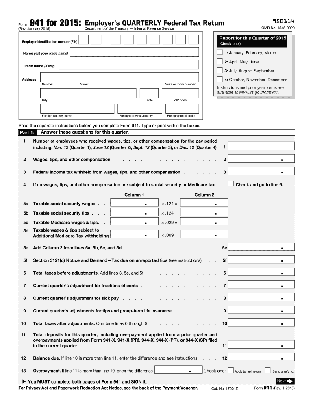checkbox: (215, 57, 223, 64), (215, 66, 223, 73), (263, 366, 271, 373), (216, 48, 223, 55), (216, 75, 223, 82), (227, 180, 234, 187), (227, 366, 234, 373)
textbox: (39, 71, 199, 82), (57, 58, 200, 70), (69, 46, 199, 57), (39, 87, 137, 99), (39, 102, 115, 115), (226, 152, 296, 164), (226, 253, 296, 264), (226, 266, 296, 277), (226, 278, 296, 289), (226, 338, 296, 349), (226, 351, 296, 362), (227, 140, 296, 151), (227, 165, 296, 176), (227, 240, 296, 251), (227, 303, 296, 314), (226, 290, 295, 301), (227, 316, 296, 327), (153, 363, 204, 375), (116, 101, 163, 114), (179, 206, 230, 217), (109, 206, 159, 217), (160, 86, 200, 99), (109, 229, 160, 239), (179, 197, 230, 207), (179, 216, 230, 226), (179, 229, 230, 239), (109, 197, 159, 207), (109, 216, 159, 226), (165, 102, 200, 115), (138, 86, 160, 99), (90, 33, 102, 45), (174, 33, 186, 45), (110, 33, 121, 45), (123, 33, 134, 45), (136, 33, 147, 45), (149, 33, 160, 45), (162, 33, 173, 45), (78, 34, 89, 45), (188, 33, 199, 44)
